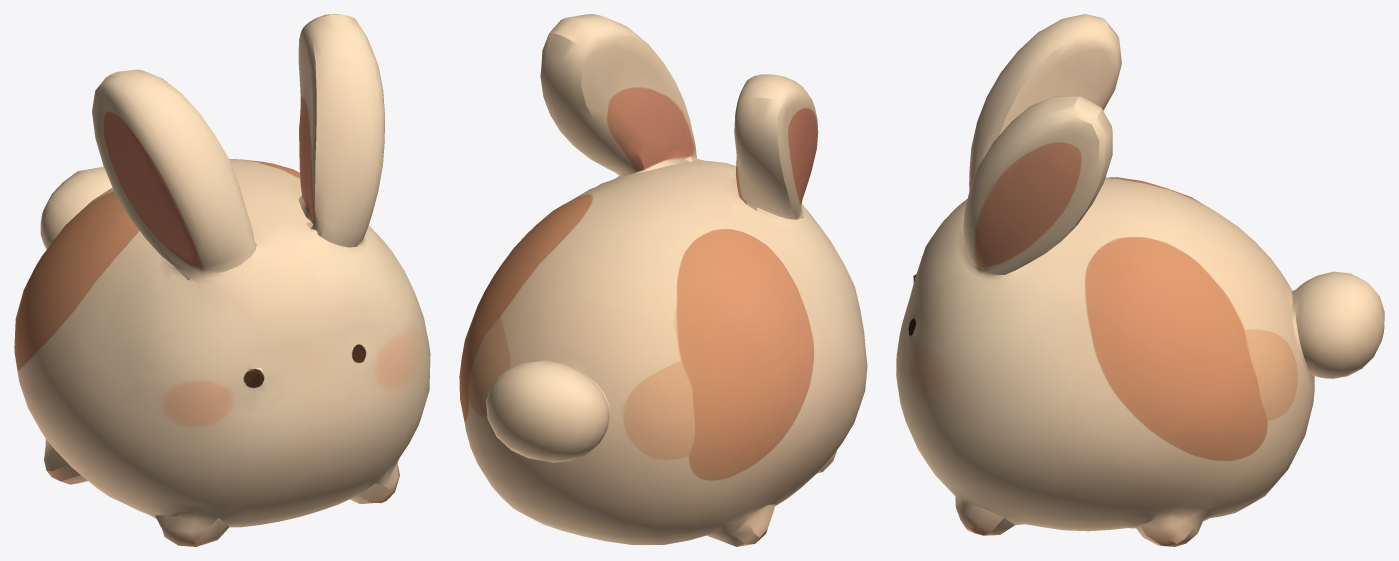
The model's file is Animal_Rabbit_02.glb.
The picture shows the model from 3 angles, left to right: view 1: azimuth 30°, elevation 25°; view 2: azimuth 150°, elevation 25°; view 3: azimuth 270°, elevation 25°; orthographic projection. The views are drawn at different scales.
Visible parts, largest first — view 1: Animal_Rabbit_02.001; view 2: Animal_Rabbit_02.001; view 3: Animal_Rabbit_02.001.
Boxes of the visible parts, box(x1,y1,x2,y2) form: Animal_Rabbit_02.001: box(14, 14, 430, 546); Animal_Rabbit_02.001: box(459, 14, 867, 546); Animal_Rabbit_02.001: box(896, 14, 1384, 546).
Size of the model in its own units: 0.795 by 0.9877 by 1.
1 material, 1 textured.
